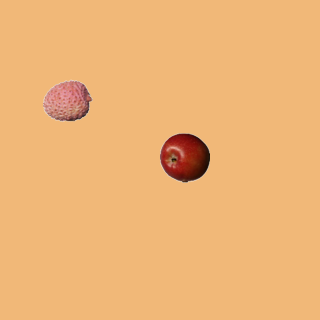Apple Braeburn: (159, 132, 209, 182)
Lychee: (42, 75, 92, 125)
